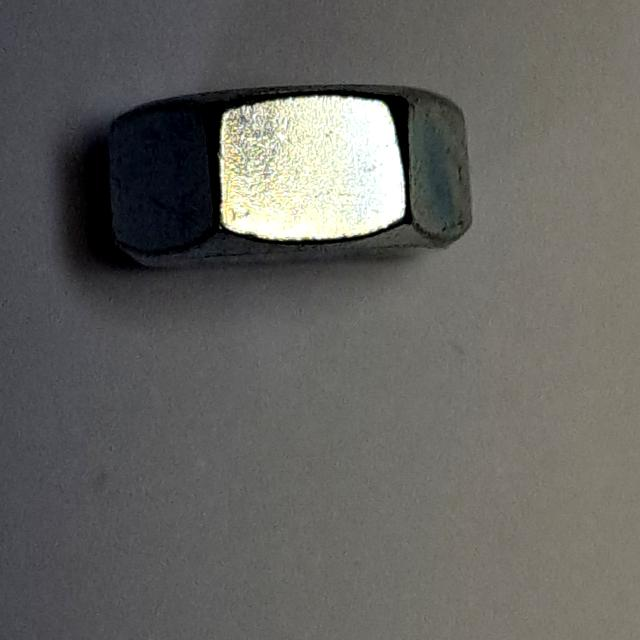Side_Excellent: (92, 72, 493, 292)
